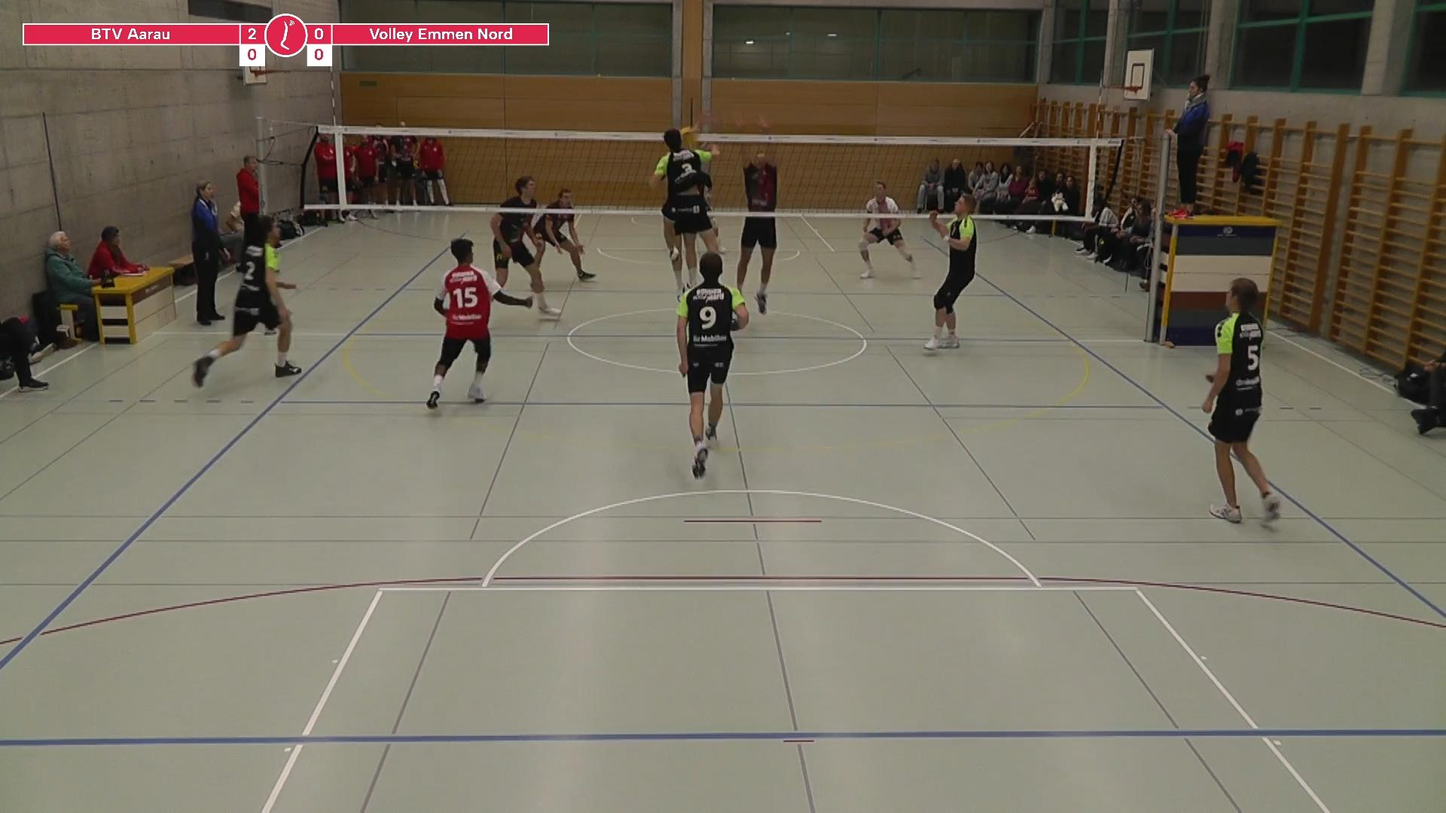attacco: (650, 114, 728, 275)
muro: (729, 106, 791, 323)
